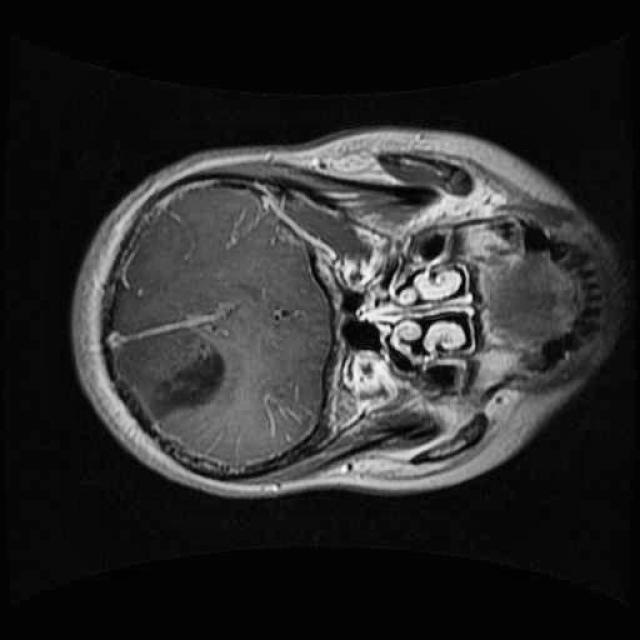Tumor: (129, 331, 235, 439)
